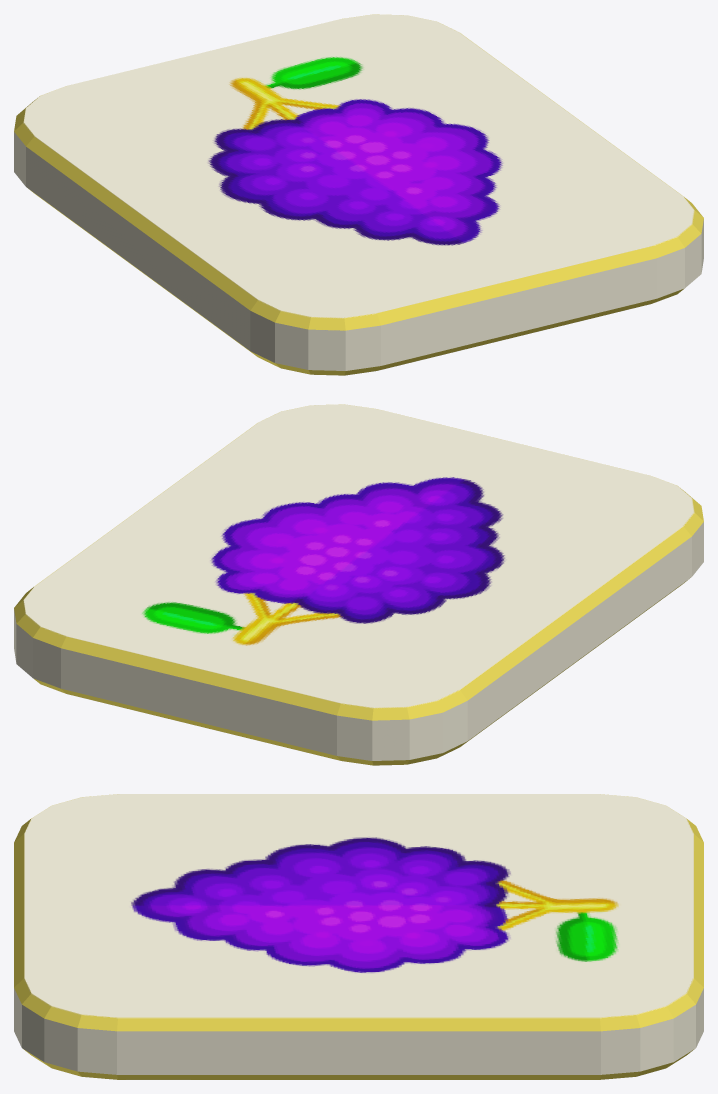
The model's file is memory_card_1.fbx.
3 renders of one model, top to bottom at view 1: azimuth 30°, elevation 25°; view 2: azimuth 150°, elevation 25°; view 3: azimuth 270°, elevation 25°, orthographic. The views are drawn at different scales.
Parts seen in each view (by area): view 1: Card1; view 2: Card1; view 3: Card1.
Boxes of the visible parts, left/top/right/bottom form: Card1: left=14, top=14, right=703, bottom=375; Card1: left=14, top=404, right=703, bottom=765; Card1: left=14, top=794, right=703, bottom=1079.
Size of the model in its own units: 40 by 5 by 50.22.
